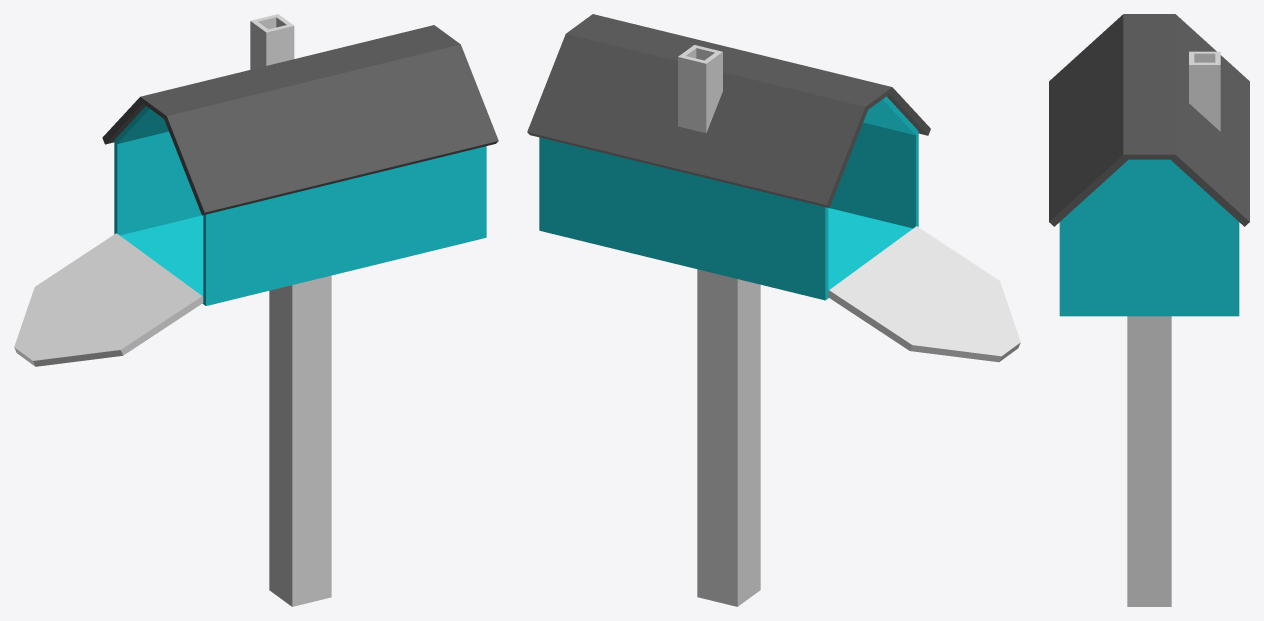
The model's file is mailbox.fbx.
The picture shows the model from 3 angles, left to right: view 1: azimuth 30°, elevation 25°; view 2: azimuth 150°, elevation 25°; view 3: azimuth 270°, elevation 25°; orthographic projection. The views are drawn at different scales.
Parts seen in each view (by area): view 1: MailBox, MailboxLid; view 2: MailBox, MailboxLid; view 3: MailBox.
Part boxes in pixels (x1,y1,x2,y2): MailBox: (102,14,498,606); MailboxLid: (14,233,203,366); MailBox: (527,14,930,606); MailboxLid: (828,226,1020,362); MailBox: (1049,14,1249,606).
Bounding box in the file's own units: 127 × 158 × 53.32.
